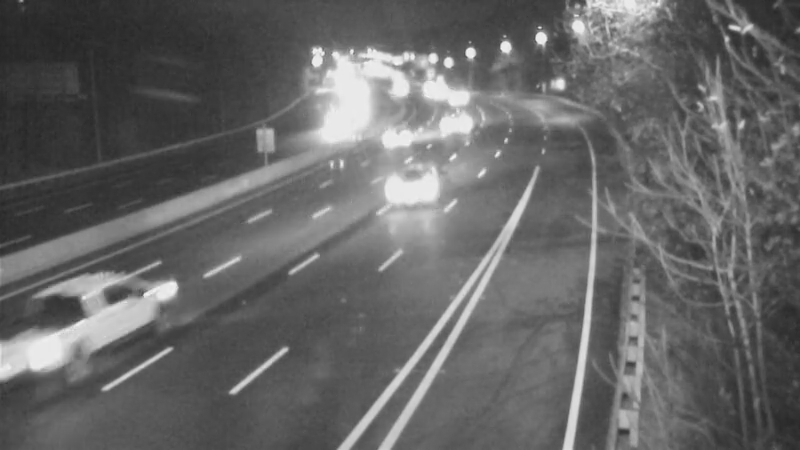vehicle: (1, 298, 101, 408), (384, 141, 464, 221), (432, 100, 482, 150), (384, 102, 434, 152)
